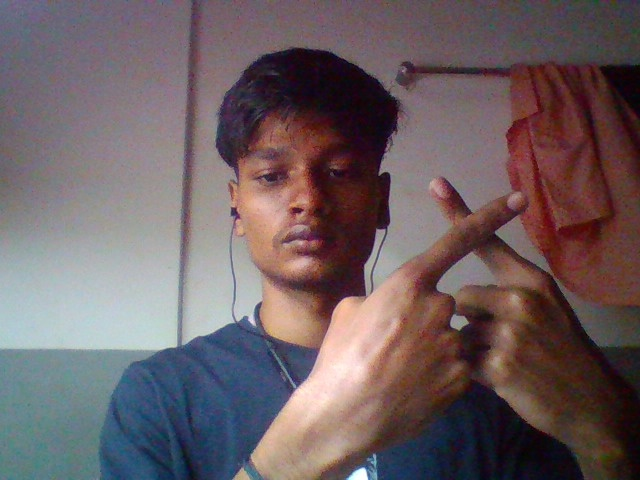X: (306, 166, 618, 440)
